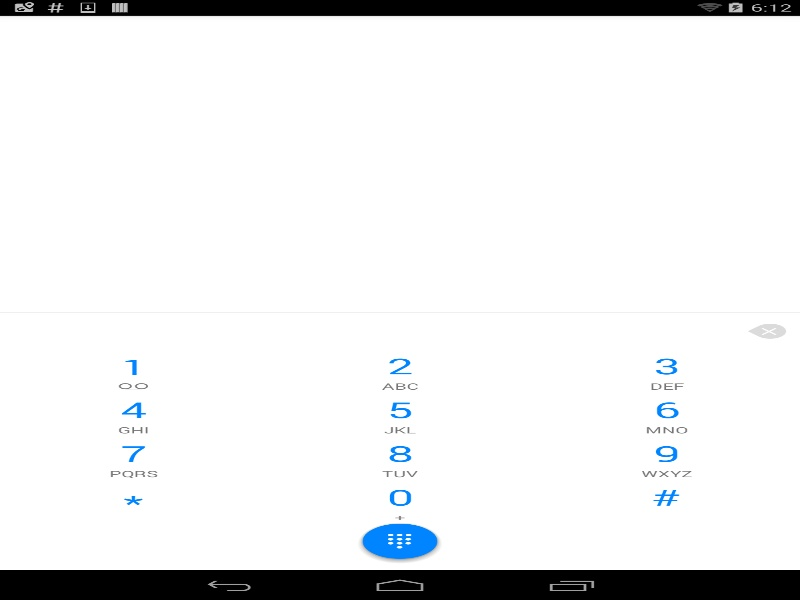Button: (86, 393, 180, 437), (86, 437, 180, 481), (86, 481, 180, 525), (353, 393, 446, 437), (620, 393, 713, 437), (353, 437, 446, 481), (620, 437, 713, 481), (353, 481, 446, 525), (620, 481, 713, 525), (86, 350, 180, 393), (353, 350, 446, 393), (620, 350, 713, 393), (736, 316, 800, 346)
Input: (5, 314, 736, 348)
